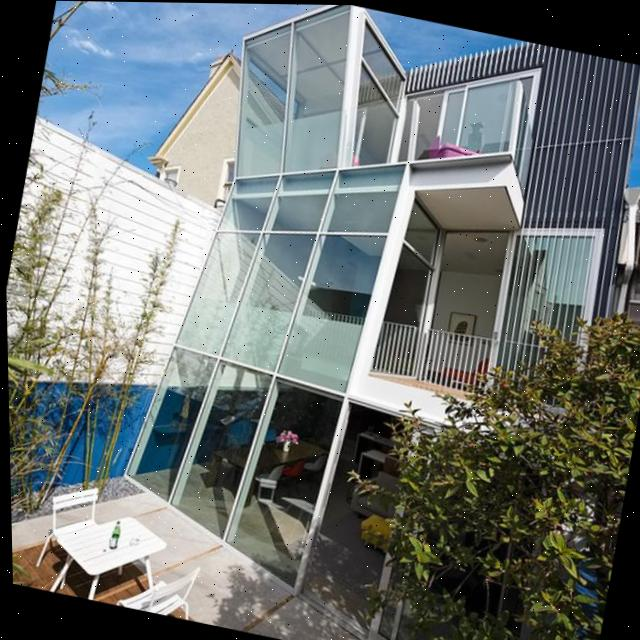building: (89, 1, 640, 640)
